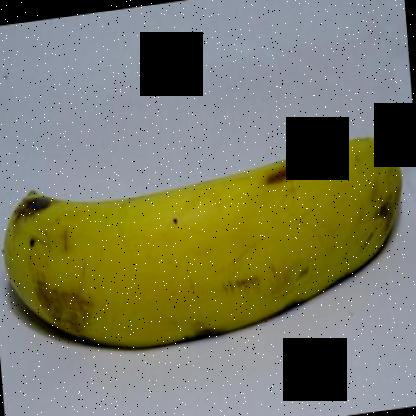freshripe: (3, 124, 408, 360)
